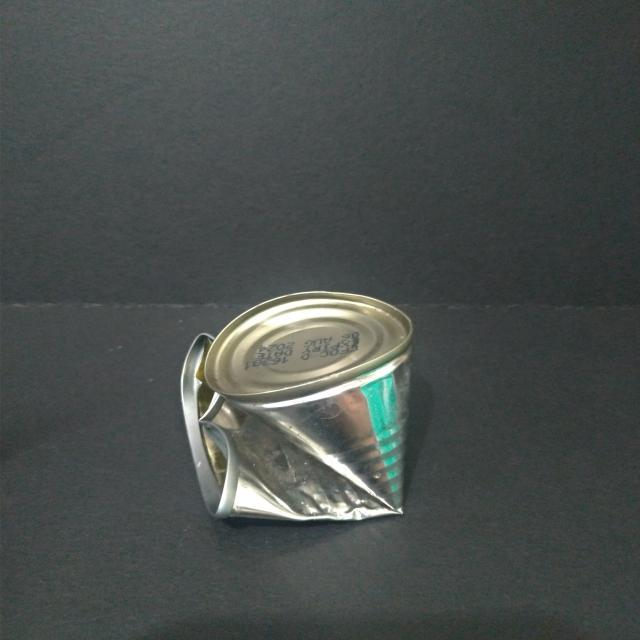metal-can: (175, 285, 418, 527)
